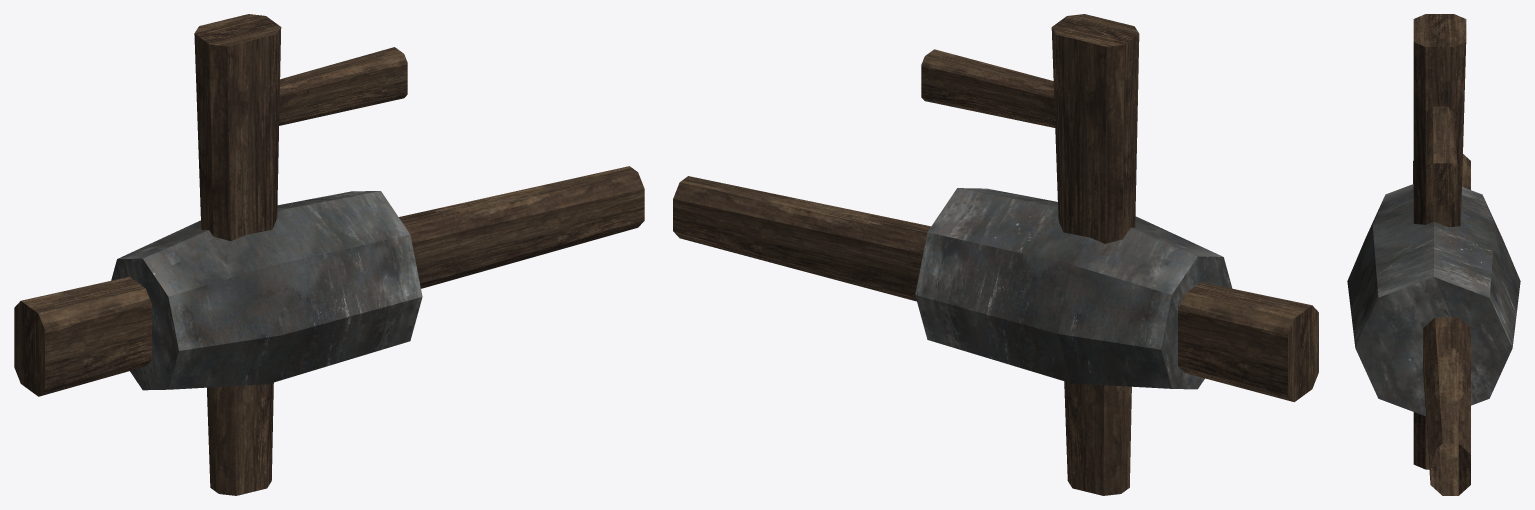
File: BeerTAP.fbx
The picture shows the model from 3 angles, left to right: view 1: azimuth 30°, elevation 25°; view 2: azimuth 150°, elevation 25°; view 3: azimuth 270°, elevation 25°; orthographic projection. The views are drawn at different scales.
Visible parts, largest first — view 1: Wood, Tap; view 2: Wood, Tap; view 3: Tap, Wood.
Boxes of the visible parts, left/top/right/bottom form: Wood: left=14, top=14, right=644, bottom=495; Tap: left=111, top=191, right=422, bottom=390; Wood: left=673, top=14, right=1318, bottom=495; Tap: left=915, top=188, right=1232, bottom=389; Tap: left=1347, top=184, right=1520, bottom=416; Wood: left=1413, top=14, right=1470, bottom=495.
Size of the model in its own units: 23 by 16.31 by 6.
Materials: 2 (2 with a texture image).
